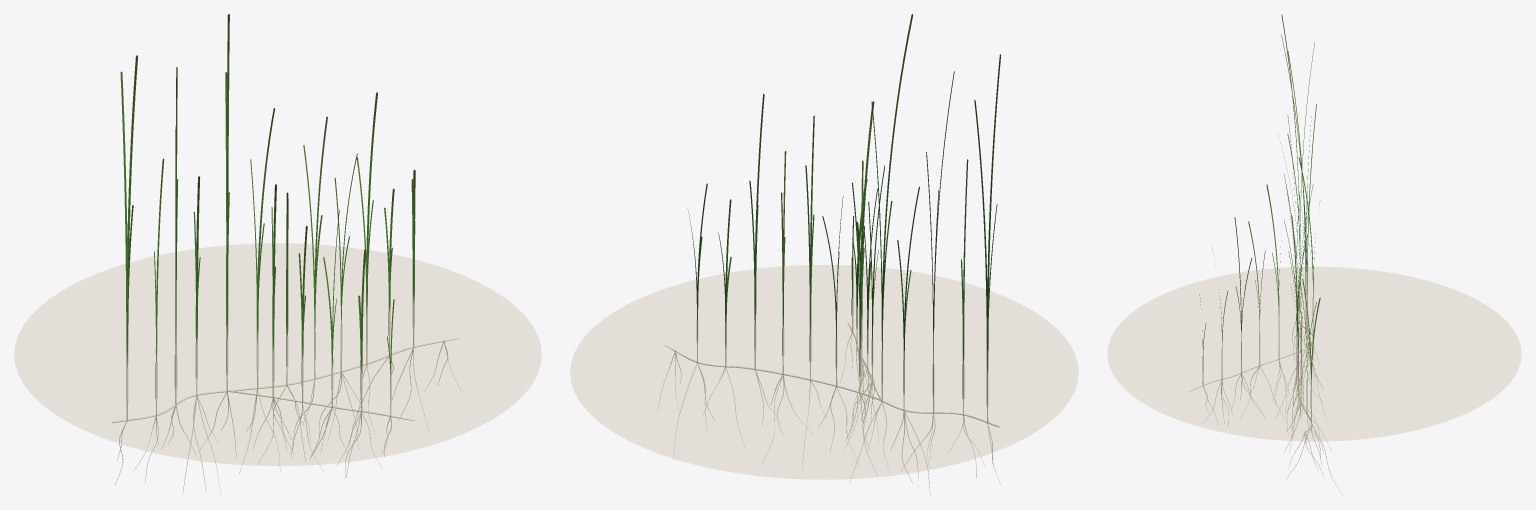
File: halodule-pinifolia.glb
The picture shows the model from 3 angles, left to right: view 1: azimuth 30°, elevation 25°; view 2: azimuth 150°, elevation 25°; view 3: azimuth 270°, elevation 25°; orthographic projection. The views are drawn at different scales.
Parts seen in each view (by area): view 1: Sediment, Leaves, Roots, LeafSheaths, Rhizome, ErectStems; view 2: Sediment, Leaves, Roots, LeafSheaths, Rhizome; view 3: Sediment, Leaves, Roots, LeafSheaths.
Part boxes in pixels (x1=…): Sediment: x1=14, y1=243, x2=541, y2=465; Leaves: x1=120, y1=14, x2=415, y2=382; Roots: x1=114, y1=342, x2=460, y2=495; LeafSheaths: x1=126, y1=302, x2=414, y2=404; Rhizome: x1=111, y1=338, x2=459, y2=423; ErectStems: x1=126, y1=324, x2=414, y2=419; Sediment: x1=570, y1=265, x2=1078, y2=479; Leaves: x1=687, y1=14, x2=1000, y2=372; Roots: x1=658, y1=332, x2=1000, y2=495; LeafSheaths: x1=696, y1=298, x2=988, y2=407; Rhizome: x1=665, y1=322, x2=999, y2=427; Sediment: x1=1107, y1=267, x2=1521, y2=441; Leaves: x1=1199, y1=14, x2=1320, y2=388; Roots: x1=1203, y1=309, x2=1342, y2=495; LeafSheaths: x1=1202, y1=267, x2=1313, y2=408.
Bounding box in the file's own units: 0.2636 × 0.268 × 0.2636.
7 materials, 1 textured.
